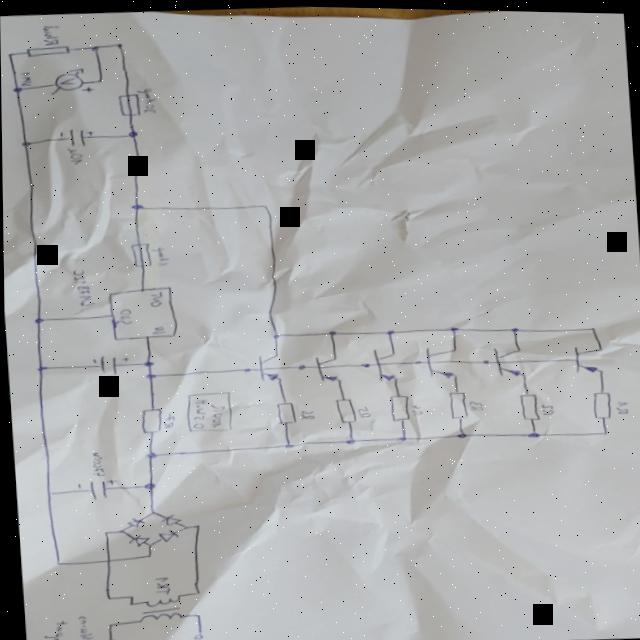capacitor: (75, 477, 118, 503), (90, 354, 129, 377), (57, 128, 97, 149)
crossover: (102, 558, 112, 565)
diode: (156, 529, 179, 544), (158, 514, 182, 528), (126, 534, 149, 547), (124, 518, 145, 529)
junction: (126, 130, 140, 139), (142, 482, 156, 491), (143, 451, 157, 460), (130, 202, 144, 211), (141, 360, 154, 369), (526, 429, 540, 437), (143, 372, 157, 380), (32, 317, 44, 326), (454, 430, 466, 438), (20, 141, 31, 149), (344, 437, 356, 444), (269, 332, 281, 339), (447, 324, 459, 331), (507, 325, 519, 332), (396, 434, 408, 441), (284, 442, 295, 449), (326, 329, 337, 336), (259, 203, 270, 210), (384, 328, 395, 335), (11, 87, 23, 93), (36, 366, 46, 373), (44, 491, 54, 498), (587, 324, 597, 330), (147, 510, 156, 516), (296, 364, 305, 370), (600, 429, 609, 434), (192, 613, 201, 618), (91, 46, 100, 51), (101, 531, 110, 536), (102, 596, 111, 601), (53, 561, 62, 566), (361, 362, 370, 367), (114, 43, 124, 47), (193, 524, 201, 529), (116, 529, 124, 534), (481, 358, 489, 363), (413, 359, 421, 364), (243, 367, 251, 372), (125, 602, 134, 606), (192, 591, 200, 595), (6, 53, 14, 57), (105, 624, 113, 628), (144, 554, 152, 558), (96, 79, 104, 83), (125, 595, 133, 599), (146, 543, 154, 547), (181, 525, 187, 529)
resistor: (589, 388, 613, 418), (138, 407, 164, 434), (25, 45, 72, 59), (333, 397, 358, 423), (517, 391, 540, 419), (447, 389, 468, 419), (388, 393, 410, 421), (273, 401, 296, 424)
terminal: (191, 632, 202, 640), (103, 639, 115, 640)
text: (69, 269, 96, 308), (43, 619, 71, 640), (87, 450, 107, 479), (190, 398, 208, 430), (139, 87, 158, 114), (41, 24, 62, 47), (73, 615, 92, 640), (208, 403, 225, 430), (152, 246, 171, 267), (95, 378, 116, 397), (151, 575, 170, 595), (115, 308, 134, 326), (68, 147, 85, 166), (147, 291, 165, 308), (613, 398, 630, 413), (19, 71, 34, 88), (466, 397, 485, 410), (538, 401, 555, 415), (355, 403, 372, 417), (297, 408, 316, 420), (161, 414, 176, 429), (409, 402, 424, 416), (150, 325, 166, 335)
transformer: (136, 593, 183, 625)
transistor: (423, 343, 459, 379), (490, 343, 526, 378), (568, 341, 606, 374), (371, 347, 397, 380), (256, 353, 283, 382), (313, 354, 342, 381)
